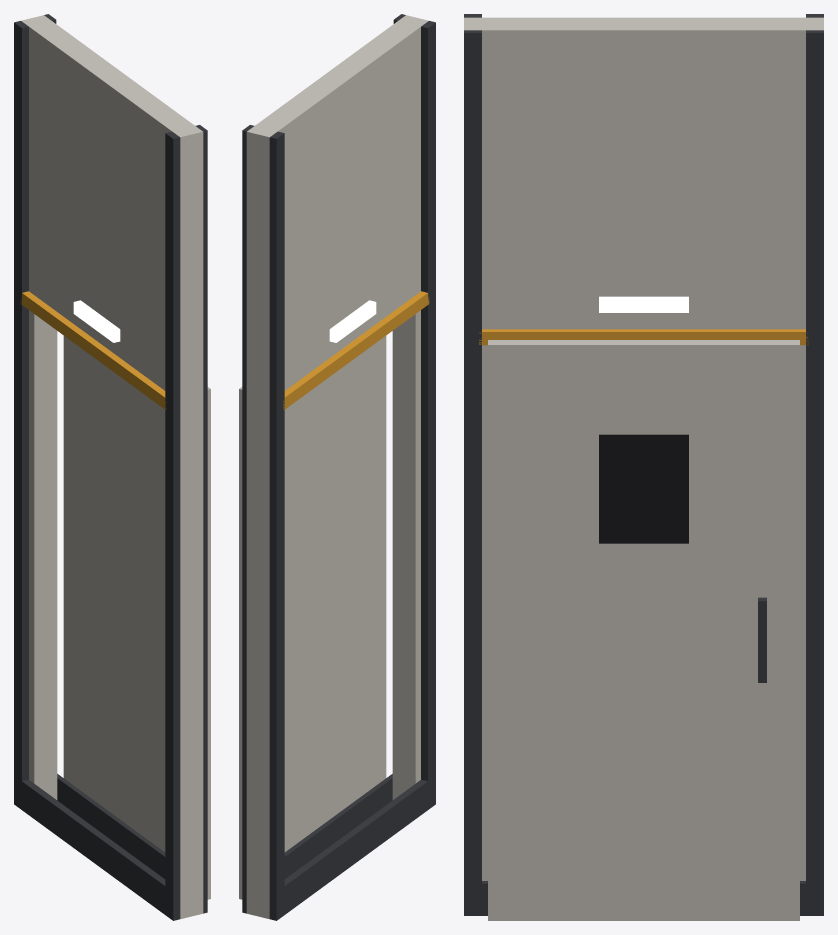
The model's file is ws_partition_door.glb.
3 renders of one model, left to right at view 1: azimuth 30°, elevation 25°; view 2: azimuth 150°, elevation 25°; view 3: azimuth 270°, elevation 25°, orthographic. The views are drawn at different scales.
Parts seen in each view (by area): view 1: ws_partition_door, personnel_door, personnel_door_light; view 2: ws_partition_door, personnel_door, personnel_door_light; view 3: personnel_door, ws_partition_door, personnel_door_light.
Boxes of the visible parts, bbox=[...] form: ws_partition_door: bbox=[14, 14, 207, 920]; personnel_door: bbox=[63, 336, 210, 899]; personnel_door_light: bbox=[73, 300, 120, 342]; ws_partition_door: bbox=[242, 14, 435, 920]; personnel_door: bbox=[239, 336, 386, 899]; personnel_door_light: bbox=[329, 300, 376, 342]; personnel_door: bbox=[488, 340, 799, 920]; ws_partition_door: bbox=[464, 14, 823, 915]; personnel_door_light: bbox=[599, 296, 688, 312].
Size of what is drawn, in the model's own units: 0.24 by 3.25 by 1.2.
